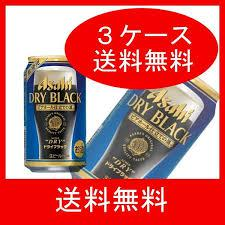beer: (22, 53, 90, 173)
